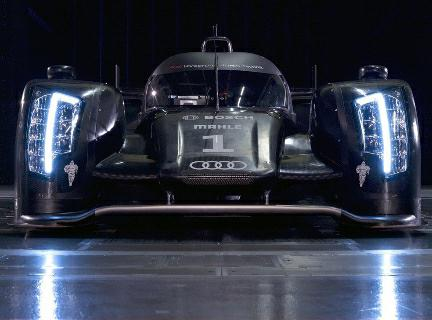奥迪-R18: (10, 39, 430, 254)
